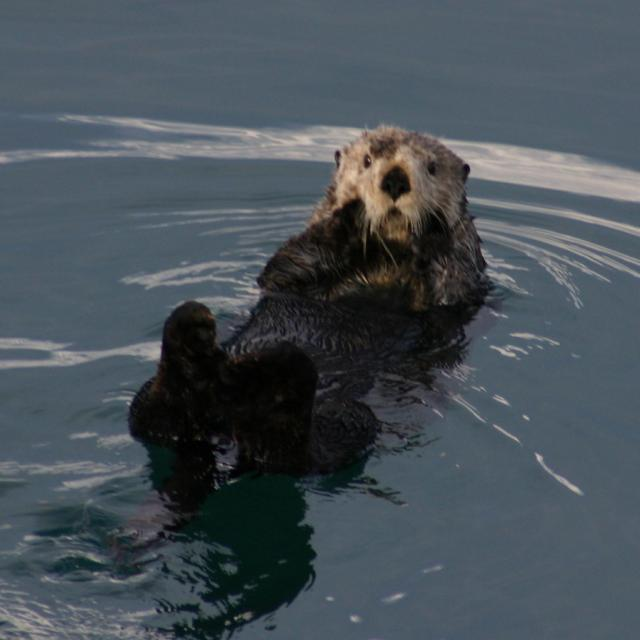otter: (127, 127, 490, 437)
